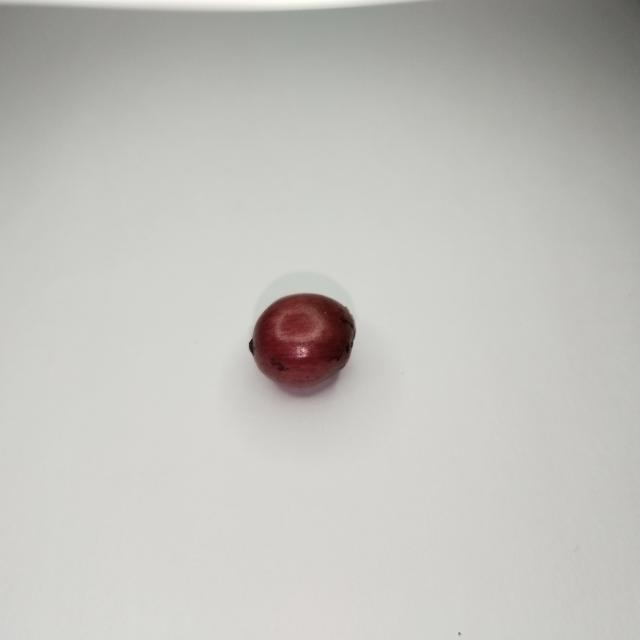Sano: (249, 293, 355, 393)
